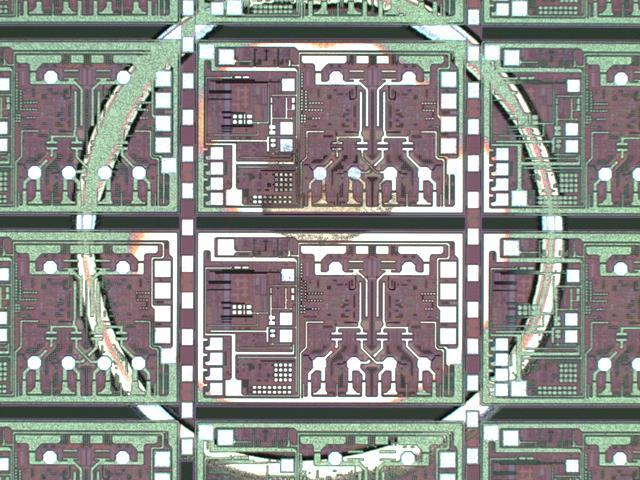COATING BAD: (64, 1, 578, 480)
